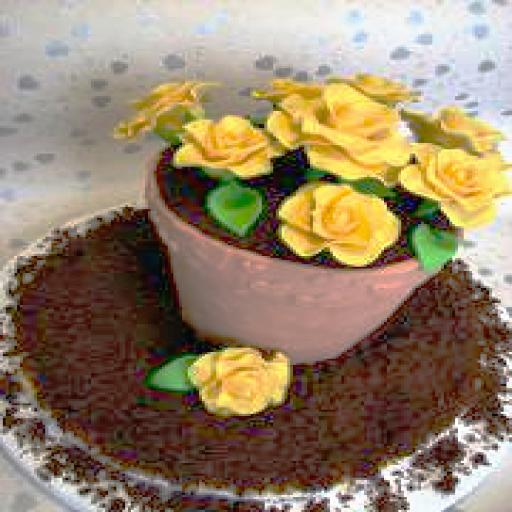rose: (296, 85, 412, 177), (284, 181, 390, 269), (407, 143, 509, 226), (188, 345, 296, 414), (168, 113, 284, 173)
